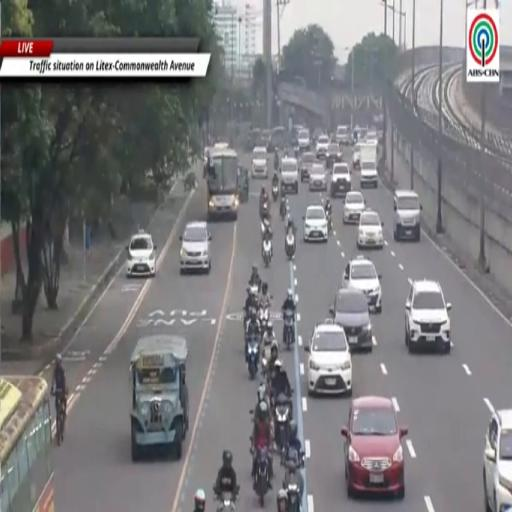bus: (0, 376, 54, 511), (206, 148, 239, 219)
car: (342, 396, 408, 499), (405, 280, 451, 354), (305, 324, 352, 396), (484, 410, 511, 511), (330, 288, 372, 351), (343, 255, 382, 313), (180, 221, 211, 274), (394, 190, 422, 242), (126, 230, 156, 277), (357, 210, 383, 248), (303, 205, 328, 242), (343, 191, 366, 223), (330, 163, 351, 198), (280, 157, 299, 195), (360, 155, 378, 188), (251, 146, 269, 178), (309, 163, 327, 190), (300, 152, 316, 182), (326, 142, 342, 168), (316, 135, 329, 158), (336, 125, 350, 145), (298, 128, 310, 151), (352, 144, 360, 170), (366, 131, 378, 145), (214, 141, 229, 150)
jeepney: (131, 334, 189, 461)
motorcycle: (274, 394, 290, 451), (254, 447, 269, 506), (284, 467, 300, 511), (248, 336, 259, 379), (283, 310, 294, 350), (284, 230, 296, 260), (217, 493, 235, 511), (259, 304, 269, 333), (262, 239, 272, 267), (261, 218, 271, 237), (260, 199, 269, 219), (280, 197, 286, 220), (272, 184, 278, 202), (327, 213, 332, 234)
truck: (360, 143, 378, 187)
